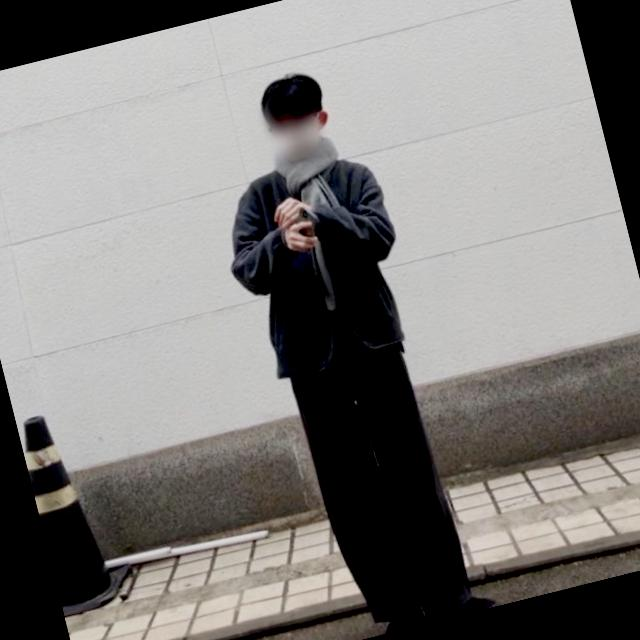denimpants: (274, 286, 476, 634)
jacket: (210, 141, 423, 388)
